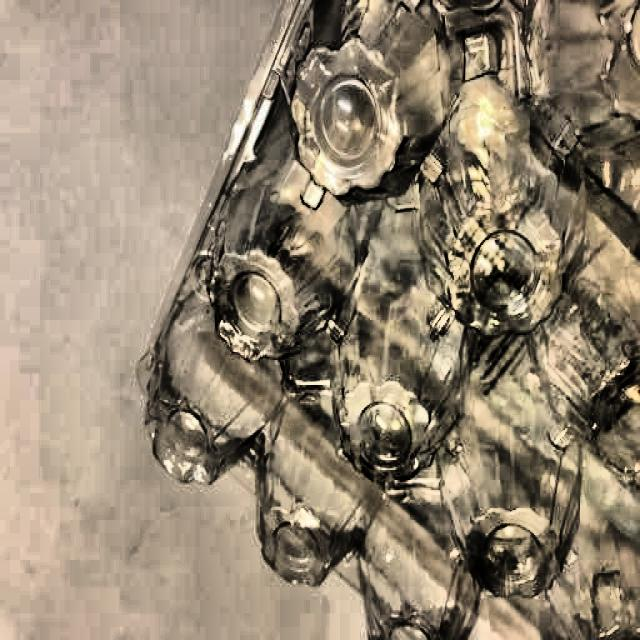plastic: (156, 8, 640, 640)
